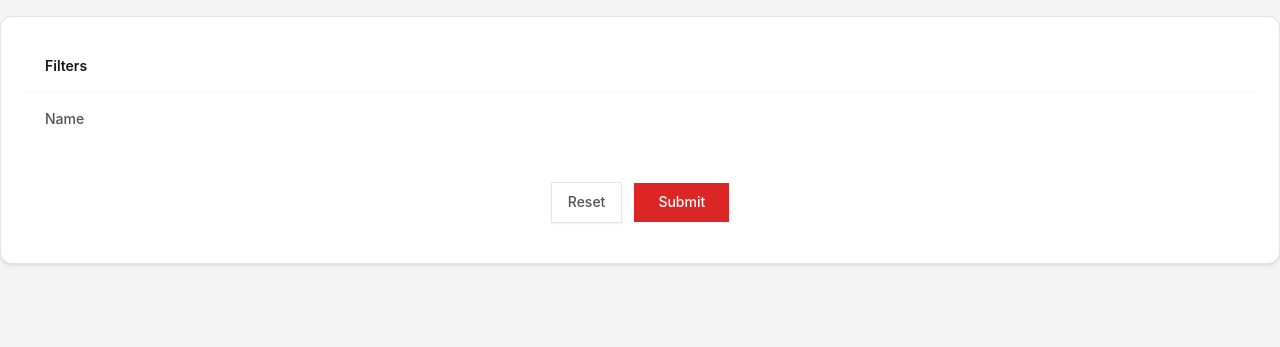
V1FilterSection › shows validation error when filter is invalid
The width and height of the screenshot is (1280, 347).
Click the button "Submit" at (682, 203), box [634,183,729,222]
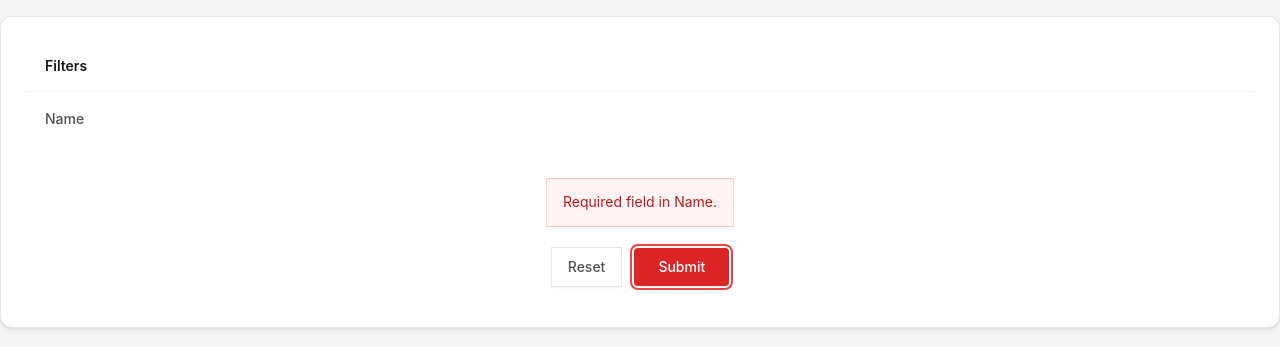
Expected: the text "Required field in Name." is shown, [546,178,734,227]
